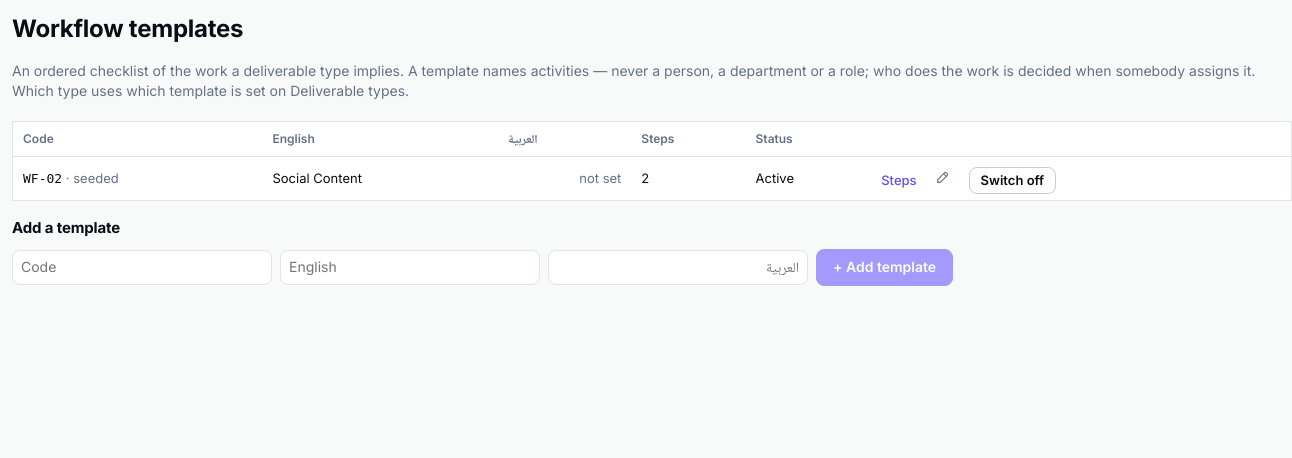
it: WorkflowTemplatesPage (ADR-0052, I19.12) › marks a manual step on the list and leaves a digital one unmarked
Click the button with test id "workflow-open-WF-02": coordinates (899, 181) [881,173,917,188]
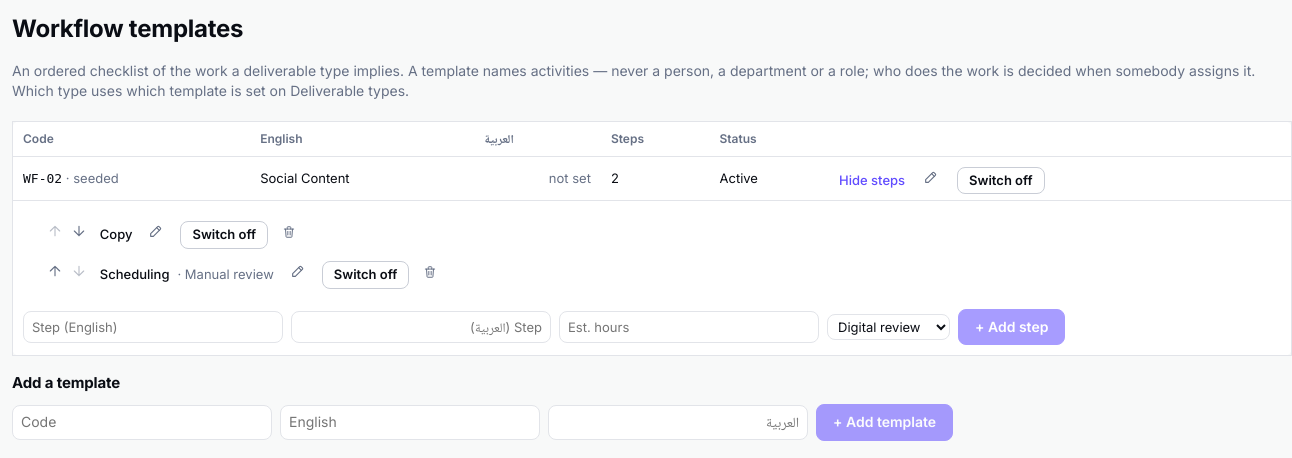
expect the text "· Manual review" is shown: met, box [177,265,274,284]
